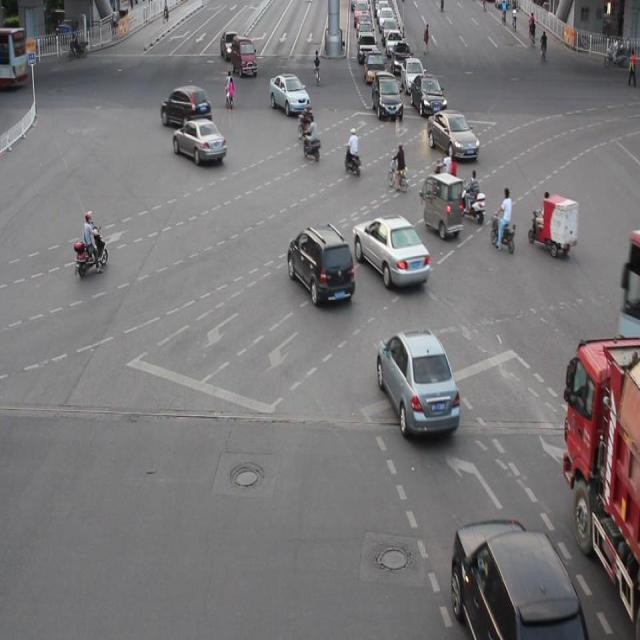bus: (562, 337, 640, 634)
car: (449, 519, 588, 640), (376, 327, 460, 435), (352, 214, 429, 289), (287, 224, 355, 306), (425, 107, 479, 161), (172, 118, 227, 162), (159, 86, 212, 127)
